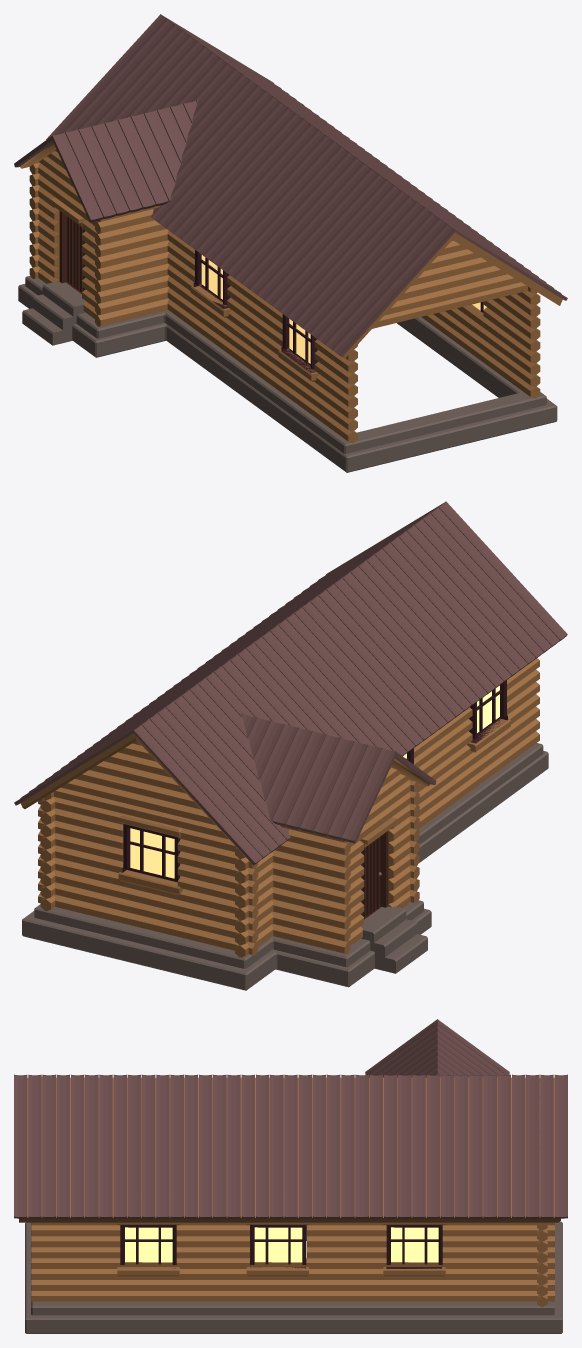
The model's file is house_wood_1f_2x1.glb.
3 renders of one model, top to bottom at view 1: azimuth 30°, elevation 25°; view 2: azimuth 150°, elevation 25°; view 3: azimuth 270°, elevation 25°, orthographic. The views are drawn at different scales.
Visible parts, largest first — view 1: Plane.496; view 2: Plane.496; view 3: Plane.496.
Part boxes in pixels (x1,y1,x2,y2): Plane.496: (14, 14, 567, 472); Plane.496: (14, 501, 567, 990); Plane.496: (14, 1019, 567, 1333).
Bounding box in the file's own units: 9.05 × 6.32 × 15.11.
